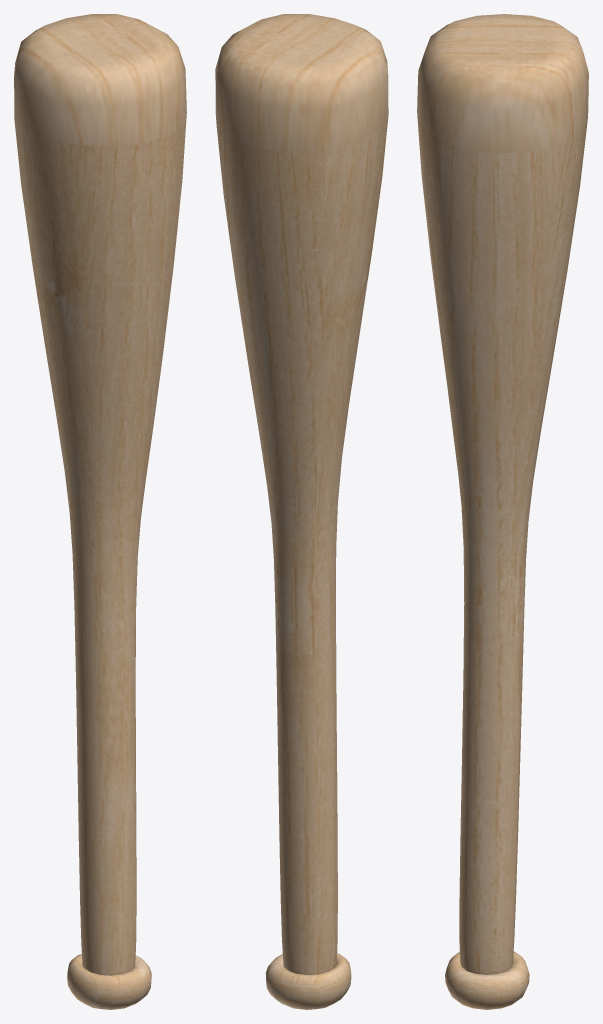
Rendered from Baseball bat.fbx.
3 renders of one model, left to right at view 1: azimuth 30°, elevation 25°; view 2: azimuth 150°, elevation 25°; view 3: azimuth 270°, elevation 25°, orthographic.
Parts seen in each view (by area): view 1: Cube; view 2: Cube; view 3: Cube.
Part boxes in pixels (x1=…): Cube: x1=14, y1=14, x2=186, y2=1009; Cube: x1=215, y1=14, x2=388, y2=1009; Cube: x1=417, y1=14, x2=588, y2=1009.
Bounding box in the file's own units: 66.53 × 411 × 66.63.
